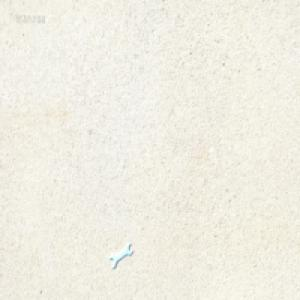Wrench: (109, 239, 131, 268)
